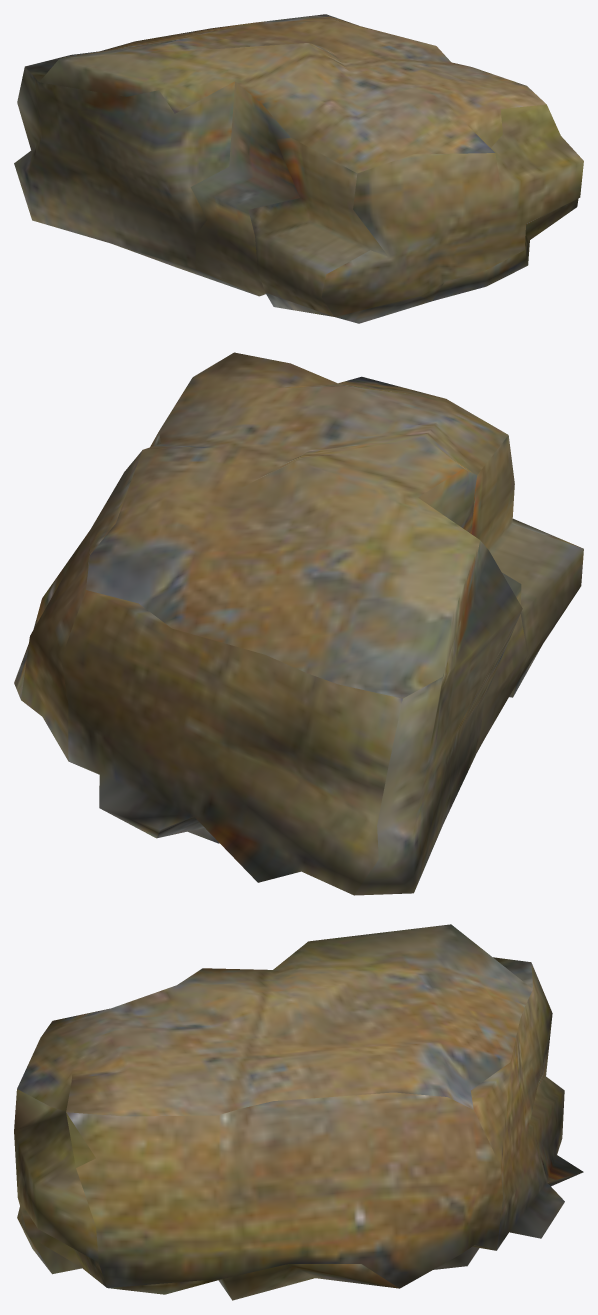
The model's file is Q_Rock_3.fbx.
3 renders of one model, top to bottom at view 1: azimuth 30°, elevation 25°; view 2: azimuth 150°, elevation 25°; view 3: azimuth 270°, elevation 25°, orthographic. The views are drawn at different scales.
Visible parts, largest first — view 1: Aset_rock_smooth_S_uglldgifa_03_LOD4; view 2: Aset_rock_smooth_S_uglldgifa_03_LOD4; view 3: Aset_rock_smooth_S_uglldgifa_03_LOD4.
Boxes of the visible parts, x1,y1,x2,y2 form: Aset_rock_smooth_S_uglldgifa_03_LOD4: [14, 14, 583, 323]; Aset_rock_smooth_S_uglldgifa_03_LOD4: [14, 352, 583, 895]; Aset_rock_smooth_S_uglldgifa_03_LOD4: [14, 924, 583, 1300].
Size of the model in its own units: 6.49 by 3.54 by 7.25.
Materials: 1 (1 with a texture image).
